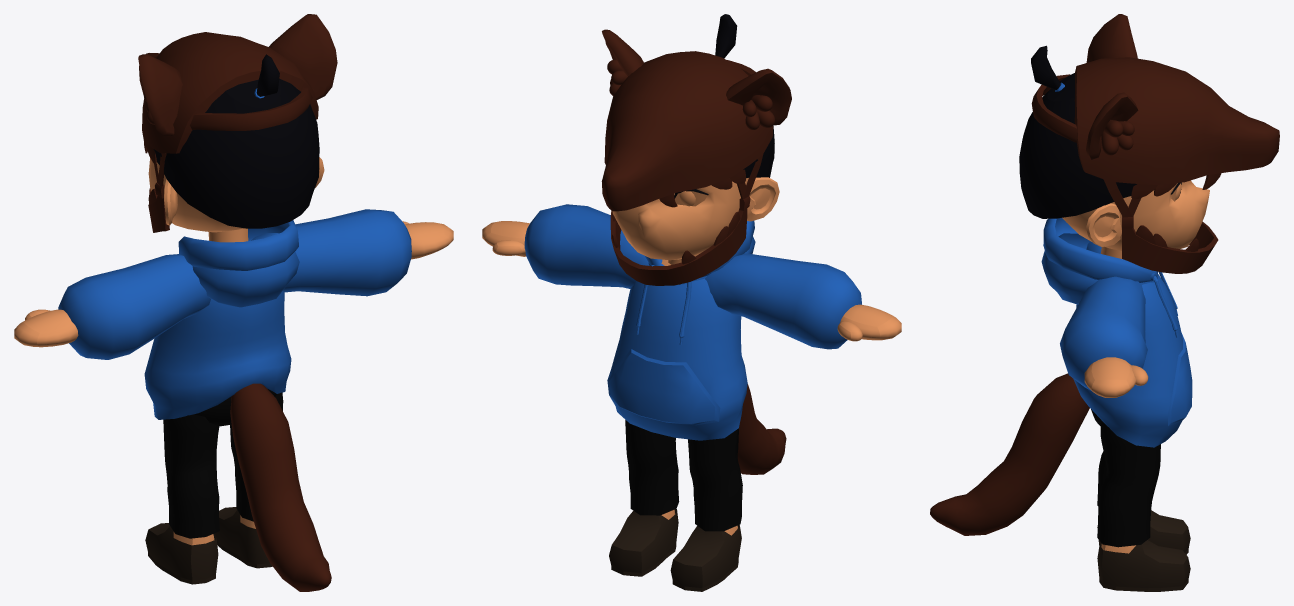
The model's file is CHARA.fbx.
3 renders of one model, left to right at view 1: azimuth 30°, elevation 25°; view 2: azimuth 150°, elevation 25°; view 3: azimuth 270°, elevation 25°, orthographic. The views are drawn at different scales.
Parts seen in each view (by area): view 1: Sleeves001, Hair001, Pocket001, Tail001, WolfHead001, Pants001, Cap001, WolfEar001, Shoe001, Hand001, Sangle_Arrière001, Face001 (+4 smaller); view 2: WolfHead001, Pocket001, Sleeves001, Pants001, Shoe001, Face001, Mask_Inferior001, WolfEar001, Tail001, Hand001, Ear_Pilosity001, Ear001 (+5 smaller); view 3: WolfHead001, Tail001, Pocket001, Hair001, Sleeves001, Pants001, Shoe001, Cap001, Face001, WolfEar001, Mask_Inferior001, Hand001 (+5 smaller).
Boxes of the visible parts, <box> form: Sleeves001: <box>58,209,411,359</box>; Hair001: <box>153,78,319,228</box>; Pocket001: <box>144,290,291,419</box>; Tail001: <box>230,383,331,591</box>; WolfHead001: <box>139,32,318,153</box>; Pants001: <box>163,392,283,538</box>; Cap001: <box>178,220,299,307</box>; WolfEar001: <box>138,14,337,136</box>; Shoe001: <box>145,507,269,580</box>; Hand001: <box>14,222,453,347</box>; Sangle_Arrière001: <box>190,87,312,130</box>; Face001: <box>148,158,243,232</box>; WolfHead001: <box>601,51,773,211</box>; Pocket001: <box>607,265,747,440</box>; Sleeves001: <box>524,204,861,349</box>; Pants001: <box>625,420,742,531</box>; Shoe001: <box>609,509,741,588</box>; Face001: <box>612,178,748,260</box>; Mask_Inferior001: <box>610,208,747,285</box>; WolfEar001: <box>602,29,791,125</box>; Tail001: <box>737,384,786,474</box>; Hand001: <box>482,221,901,340</box>; Ear_Pilosity001: <box>607,59,774,129</box>; Ear001: <box>747,177,779,221</box>; WolfHead001: <box>1074,57,1279,184</box>; Tail001: <box>930,373,1089,535</box>; Pocket001: <box>1073,274,1192,447</box>; Hair001: <box>1019,73,1136,218</box>; Sleeves001: <box>1060,241,1147,390</box>; Pants001: <box>1097,423,1160,547</box>; Shoe001: <box>1097,510,1190,588</box>; Cap001: <box>1041,218,1157,304</box>; Face001: <box>1062,180,1209,250</box>; WolfEar001: <box>1086,14,1138,159</box>; Mask_Inferior001: <box>1122,221,1218,273</box>; Hand001: <box>1084,357,1135,397</box>.
Bounding box in the file's own units: 0.941 × 1.12 × 0.6818.
